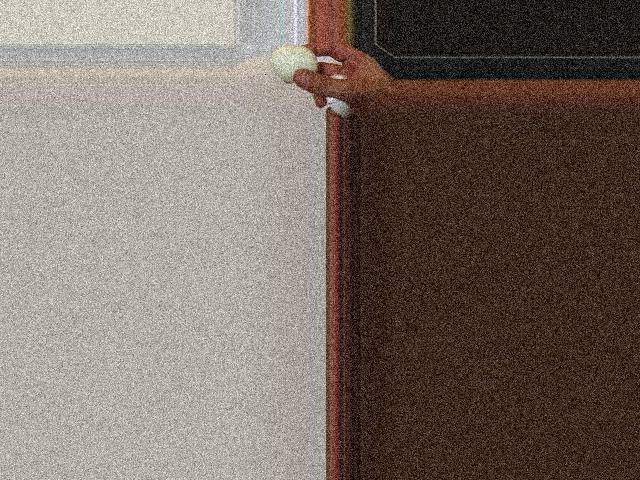egg: (270, 44, 317, 83)
